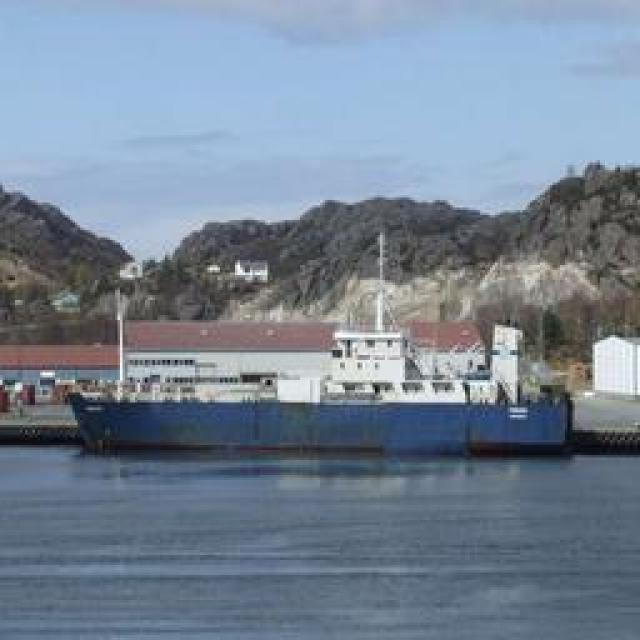CIV_Ship: (61, 374, 581, 452)
